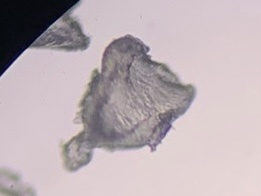microplastic: (58, 34, 196, 173), (26, 14, 92, 52)
